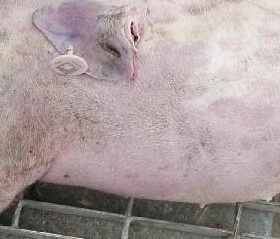text: (40, 39, 101, 91)
